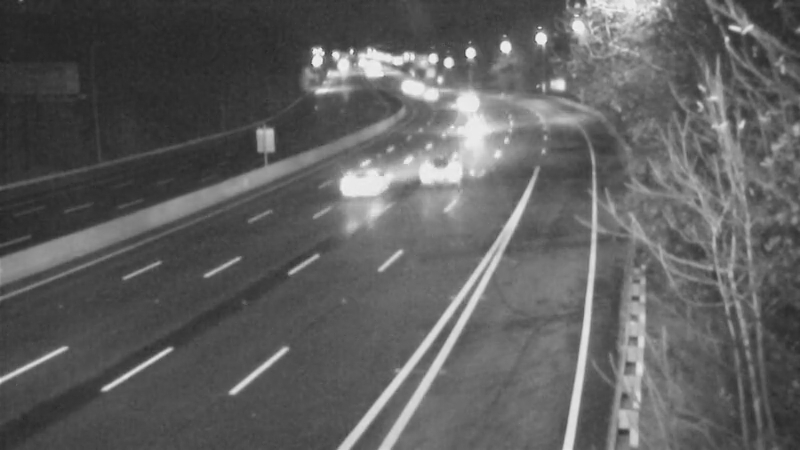vehicle: (408, 131, 488, 211), (323, 142, 403, 222), (374, 59, 424, 109), (406, 72, 456, 122), (432, 80, 482, 130), (444, 99, 494, 149)
